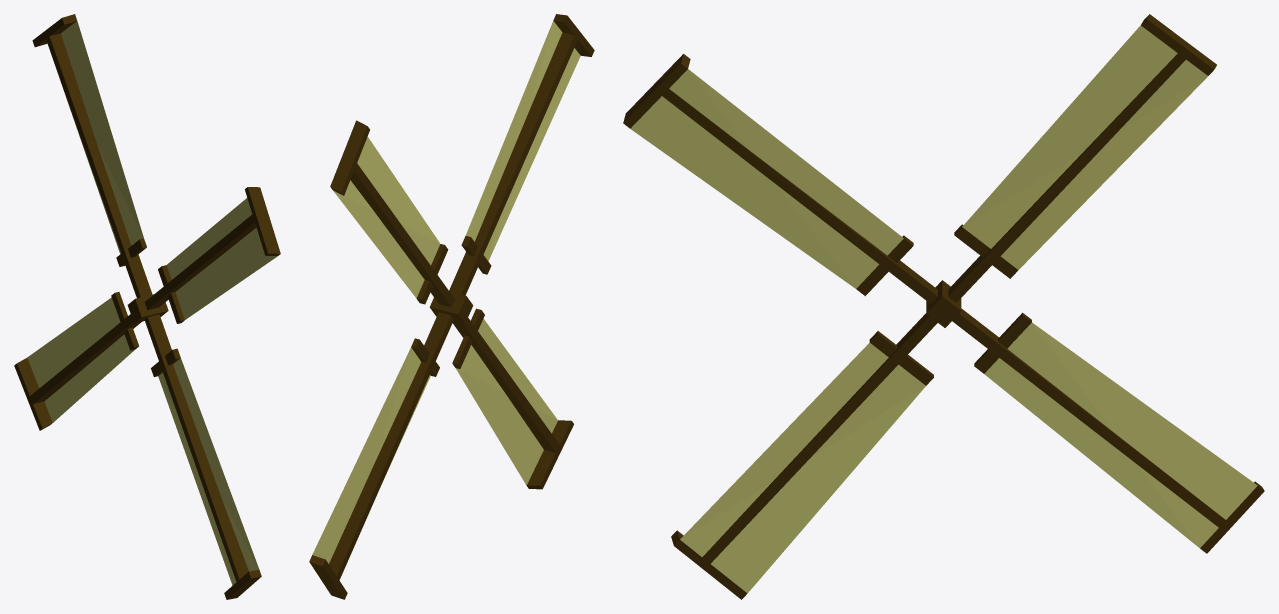
The model's file is sails0011.obj.
The picture shows the model from 3 angles, left to right: view 1: azimuth 30°, elevation 25°; view 2: azimuth 150°, elevation 25°; view 3: azimuth 270°, elevation 25°; orthographic projection. The views are drawn at different scales.
Visible parts, largest first — view 1: Sails_Mesh; view 2: Sails_Mesh; view 3: Sails_Mesh.
Part boxes in pixels (x1,y1,x2,y2): Sails_Mesh: (14,14,280,599); Sails_Mesh: (309,14,594,599); Sails_Mesh: (623,14,1264,599).
Size of the model in its own units: 0.5135 by 8.44 by 8.45.
